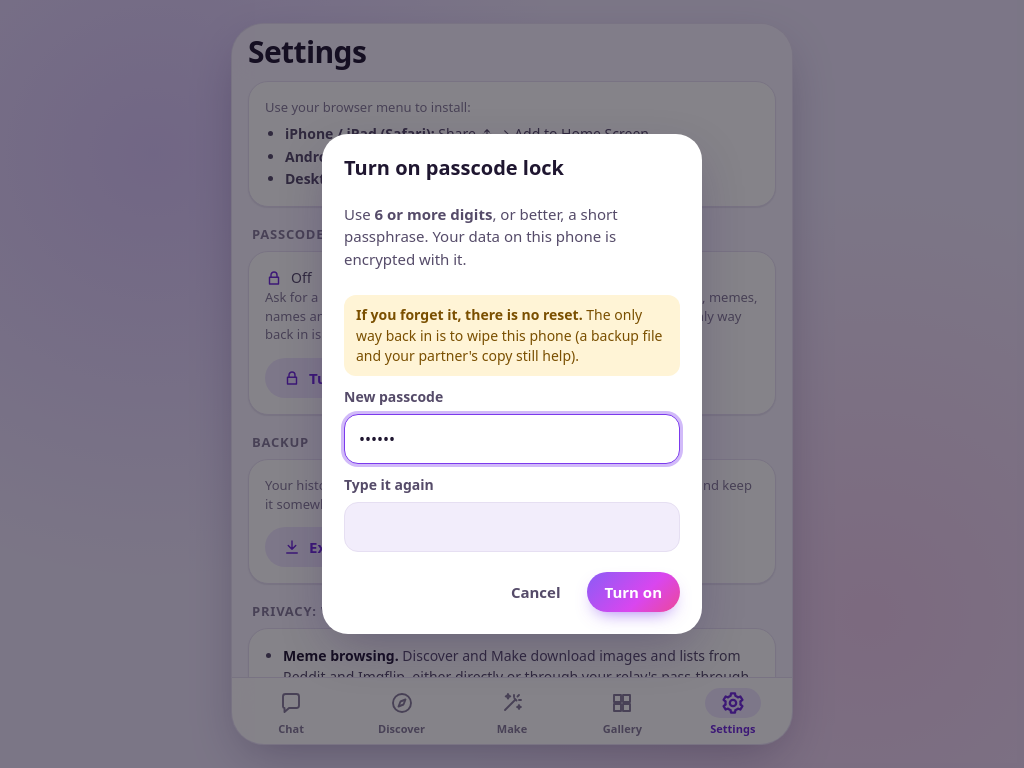
Scenario: Settings → Passcode lock › auto-lock choice, change and turn off
Earlier steps of the test are not shown.
Later steps or results of the test are not shown.
(page scrolled)
Type "246810" into the password field labelled "Type it again" at {"x": 512, "y": 527}, box x1=344 y1=502 x2=680 y2=552
Click the button "Turn on" at {"x": 633, "y": 592}, box x1=586 y1=572 x2=680 y2=612
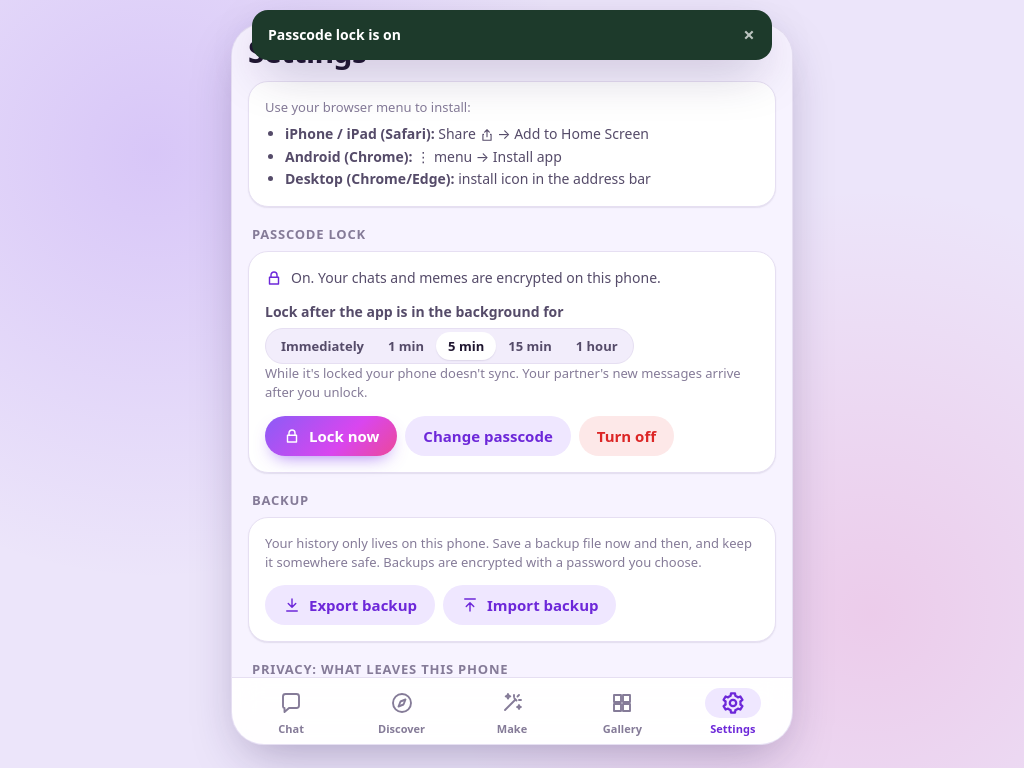
Expected: the button "Turn on passcode lock" is gone
Expected: the radio button labelled "5 min" is checked, x1=436 y1=332 x2=496 y2=360
Click the radio button labelled "Immediately" at {"x": 322, "y": 346}, box x1=281 y1=337 x2=364 y2=355
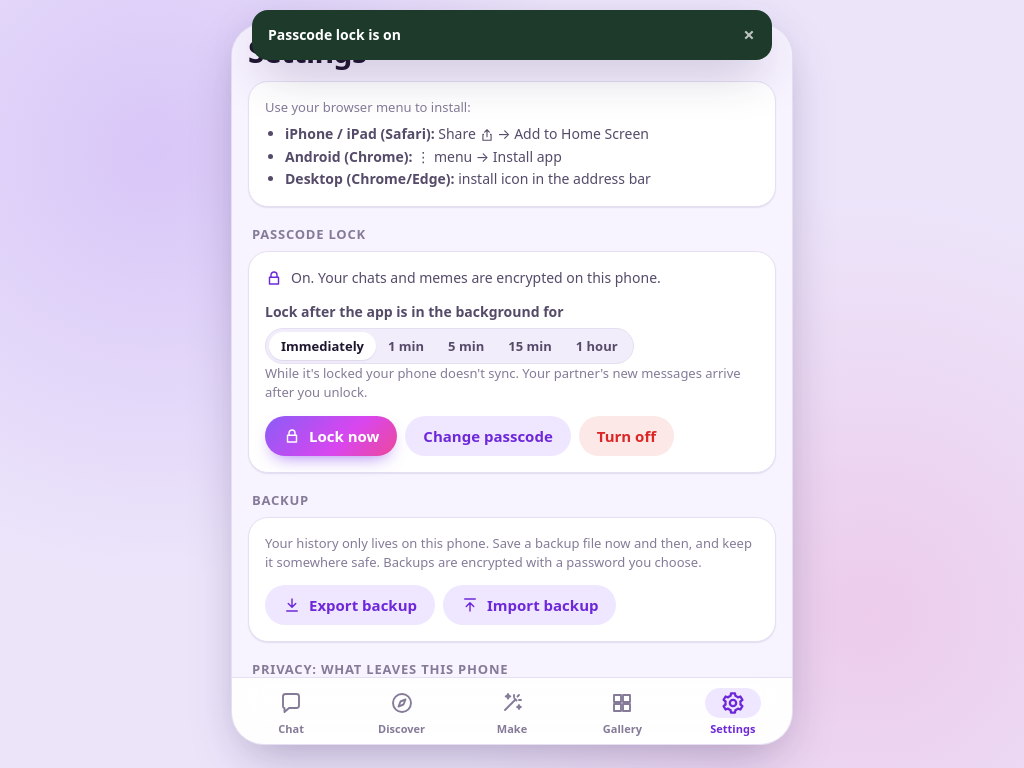
Click the button "Change passcode" at {"x": 488, "y": 436}, box x1=405 y1=416 x2=571 y2=456
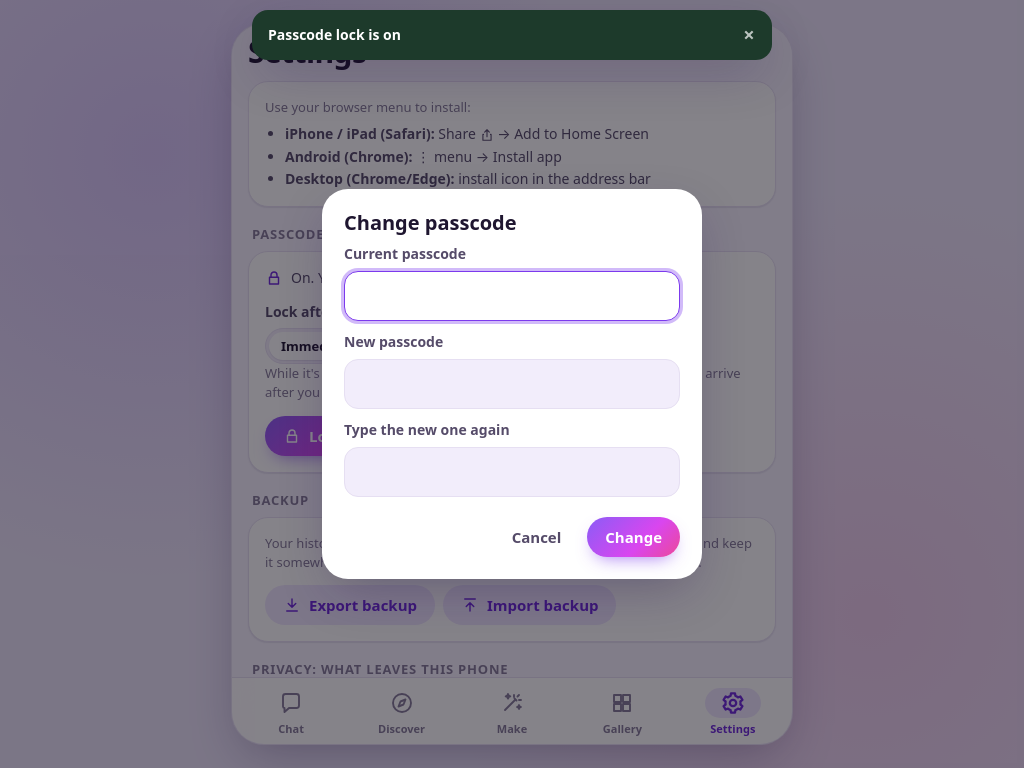
Type "000000" into the password field labelled "Current passcode" at {"x": 512, "y": 296}, box x1=344 y1=271 x2=680 y2=321
Type "a long passphrase" into the password field labelled "New passcode" at {"x": 512, "y": 384}, box x1=344 y1=359 x2=680 y2=409
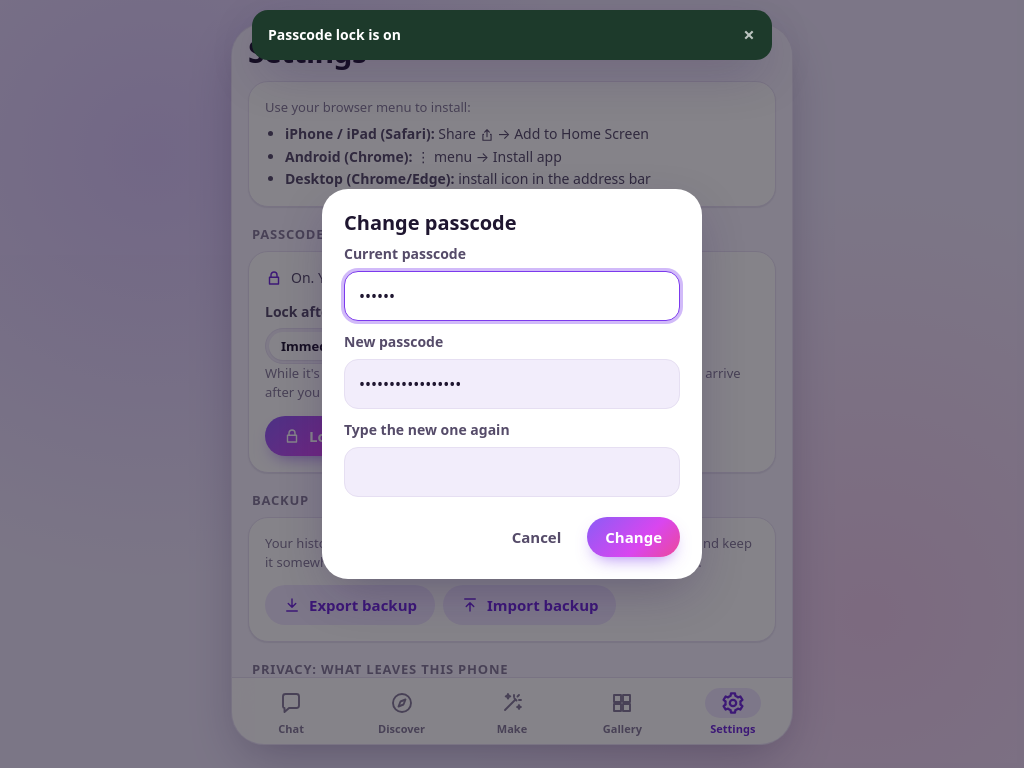
Type "a long passphrase" into the password field labelled "Type the new one again" at {"x": 512, "y": 472}, box x1=344 y1=447 x2=680 y2=497
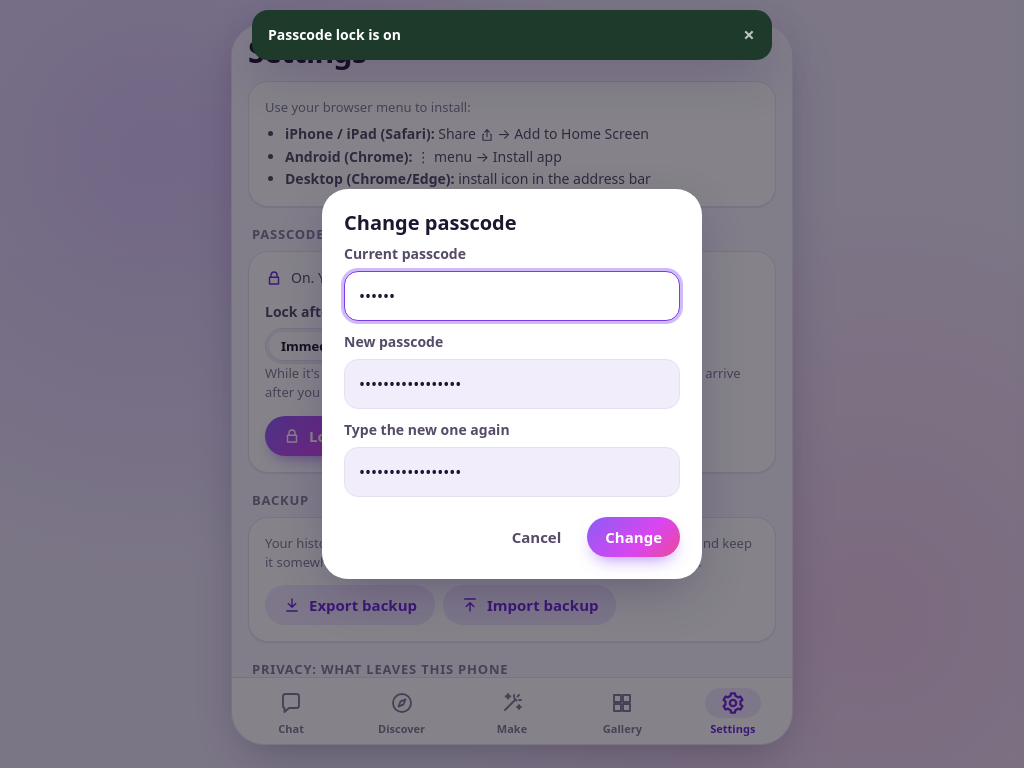
Click the button "Change" at {"x": 634, "y": 537}, box x1=587 y1=517 x2=680 y2=557
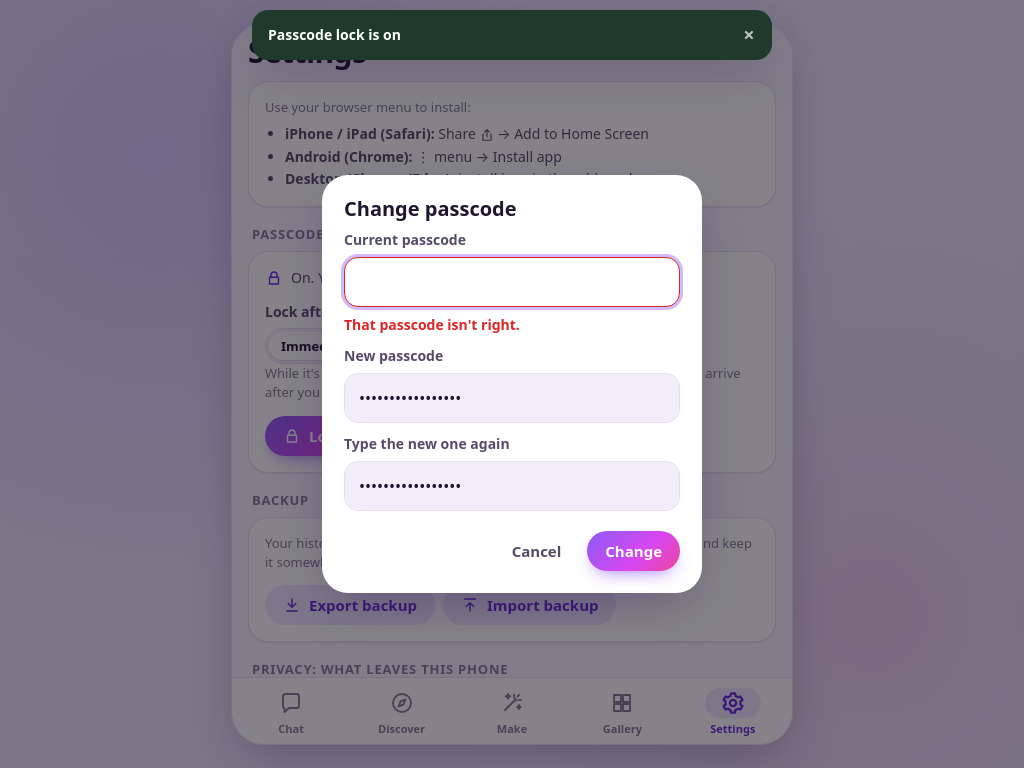
Expected: the message "That passcode isn't right." is shown, x1=344 y1=315 x2=520 y2=334
